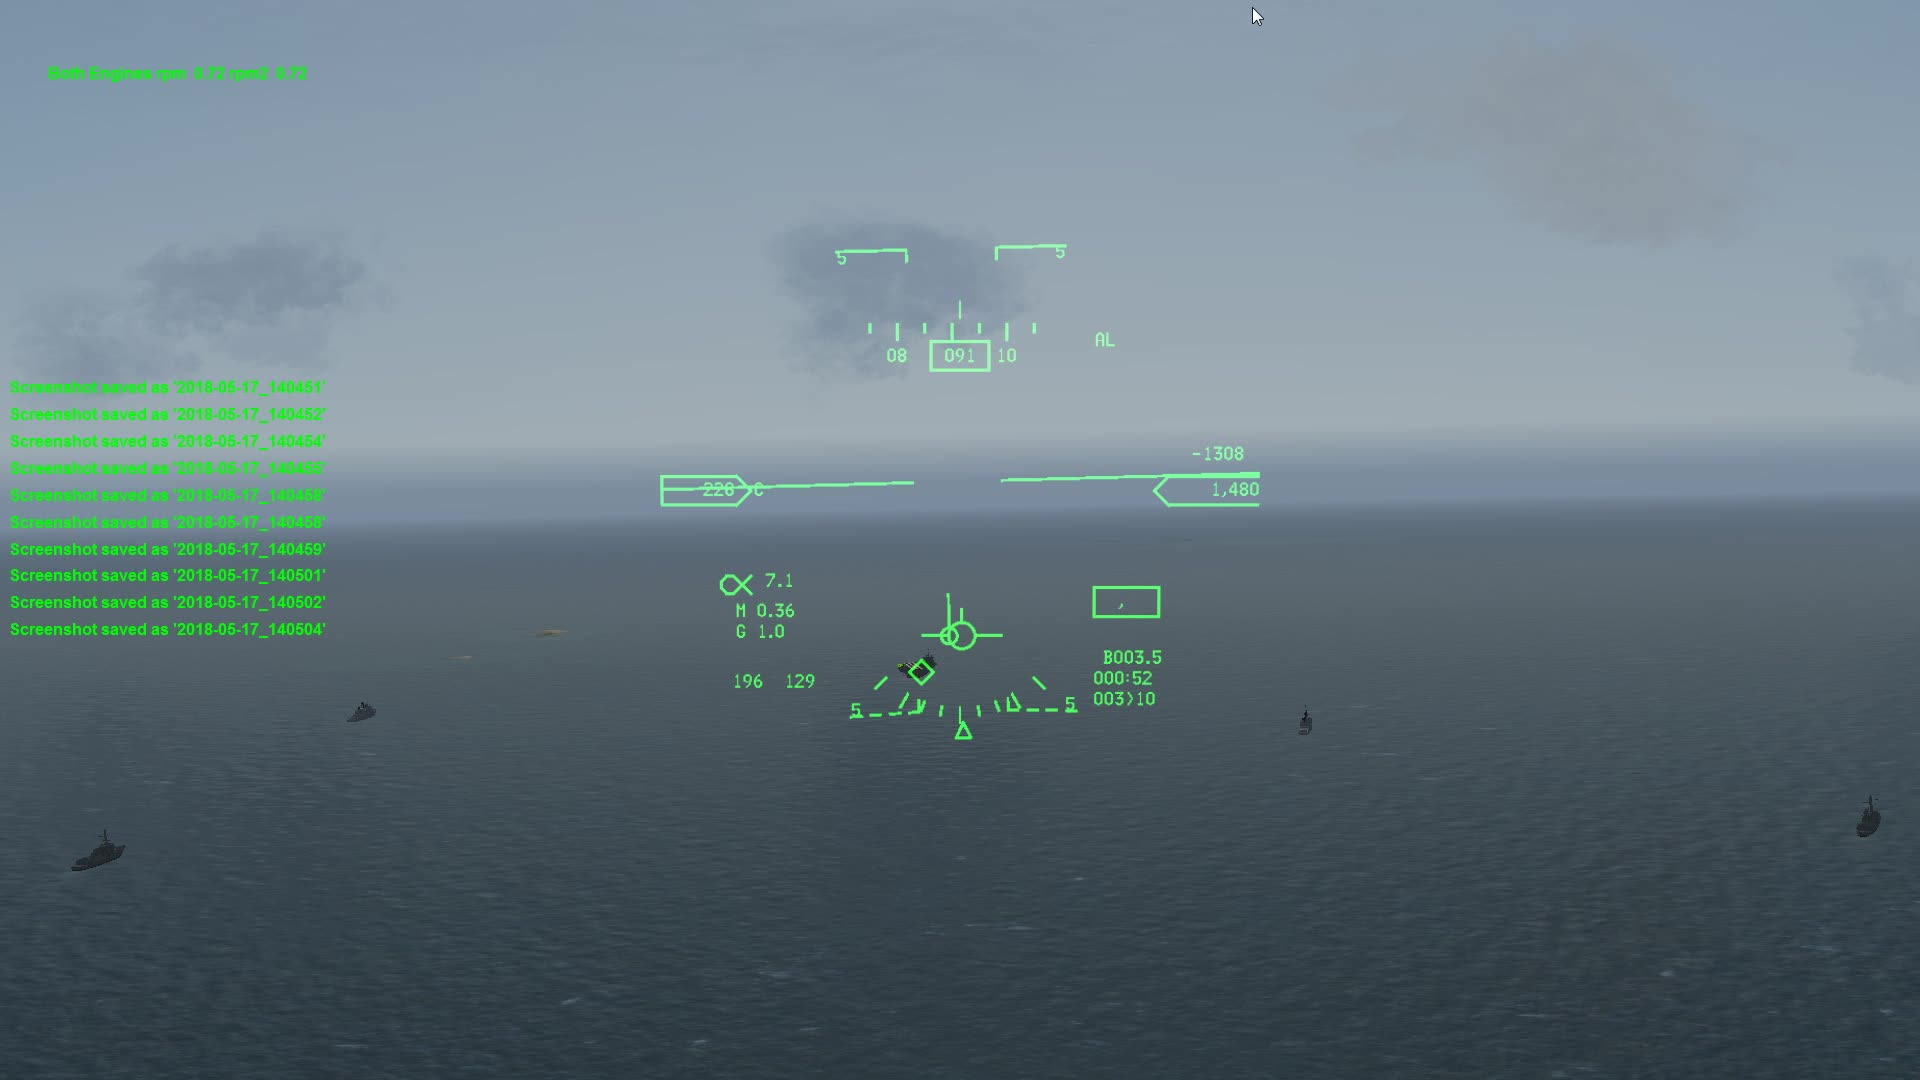speed vector: (922, 597, 1007, 655)
